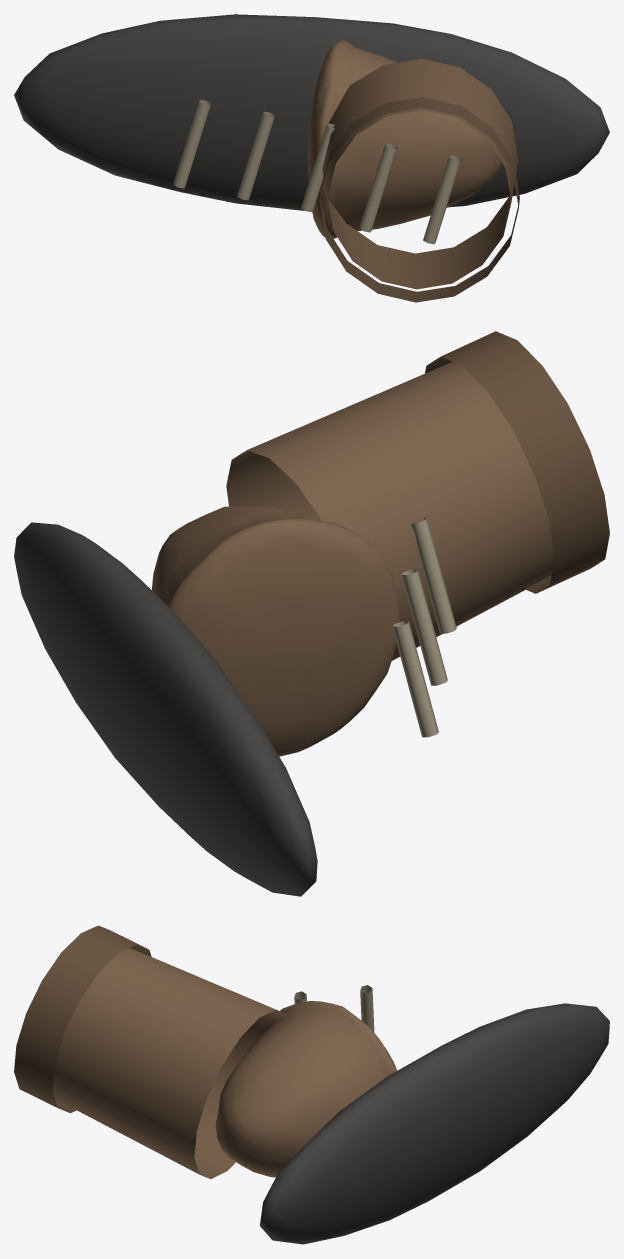
Rendered from boot.glb.
The picture shows the model from 3 angles, top to bottom: view 1: azimuth 30°, elevation 25°; view 2: azimuth 150°, elevation 25°; view 3: azimuth 270°, elevation 25°; orthographic projection. The views are drawn at different scales.
Visible parts, largest first — view 1: g_boot_sole, g_boot_leather, g_boot_lace, g_boot_collar; view 2: g_boot_leather, g_boot_sole, g_boot_collar, g_boot_lace; view 3: g_boot_leather, g_boot_sole, g_boot_collar, g_boot_lace.
Part boxes in pixels (left/top/right/bottom): g_boot_sole: left=14, top=14, right=609, bottom=210; g_boot_leather: left=307, top=40, right=518, bottom=289; g_boot_lace: left=173, top=99, right=461, bottom=244; g_boot_collar: left=319, top=97, right=519, bottom=302; g_boot_leather: left=152, top=361, right=554, bottom=756; g_boot_sole: left=14, top=522, right=317, bottom=896; g_boot_collar: left=425, top=331, right=609, bottom=593; g_boot_lace: left=392, top=517, right=456, bottom=737; g_boot_leather: left=52, top=948, right=397, bottom=1178; g_boot_sole: left=260, top=1003, right=609, bottom=1244; g_boot_collar: left=14, top=925, right=151, bottom=1113; g_boot_lace: left=294, top=985, right=374, bottom=1031.
Size of the model in its own units: 0.2365 by 0.1404 by 0.3215.
